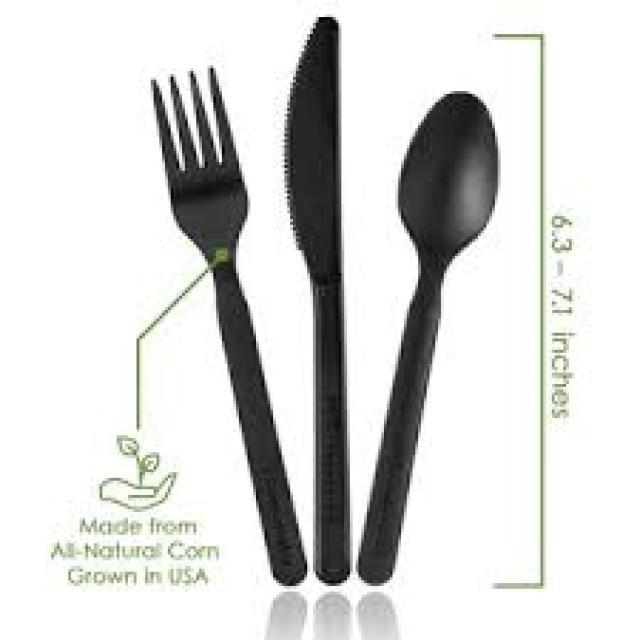plastic utensil: (154, 69, 306, 584), (359, 92, 498, 583), (285, 18, 350, 583)
